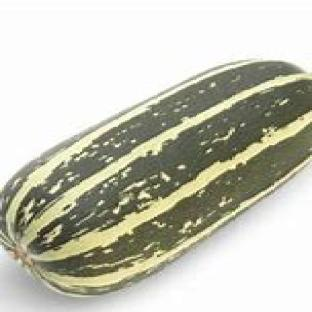Zucchini: (0, 61, 311, 295)
